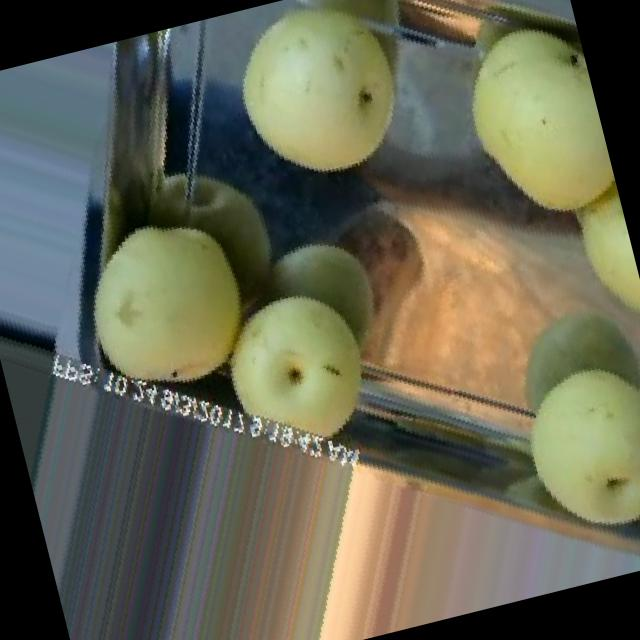Fruit: (39, 176, 294, 438), (419, 0, 627, 265), (204, 0, 446, 212), (322, 432, 568, 640), (190, 258, 408, 484), (488, 334, 640, 567), (539, 133, 640, 388)
